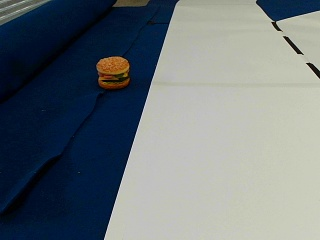burger: (96, 55, 131, 89)
